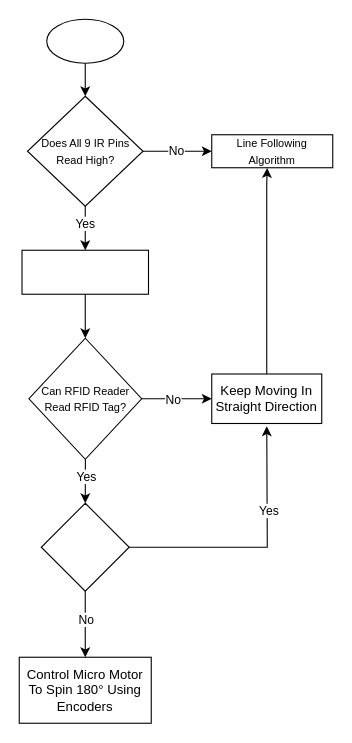
Image size: 352x743. Some labels were removed from this diagram. Each missing label, with the centre of its shape:
Fertile?: the point at 84,546
Go Back Set Distance By Encoder: the point at 84,271
Start: the point at 85,40
